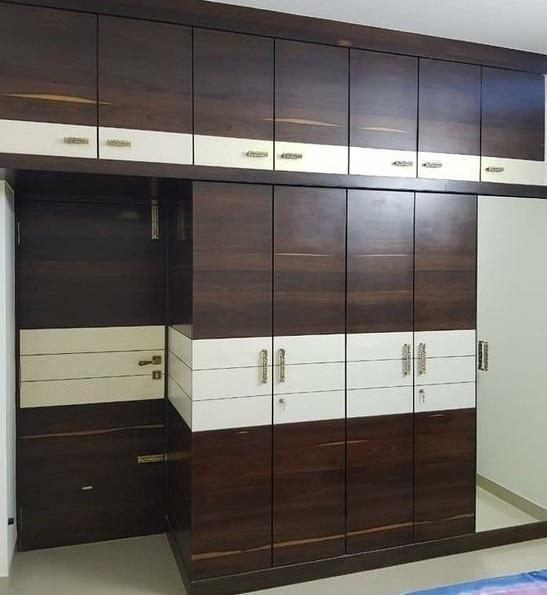Armario: (1, 4, 544, 568)
